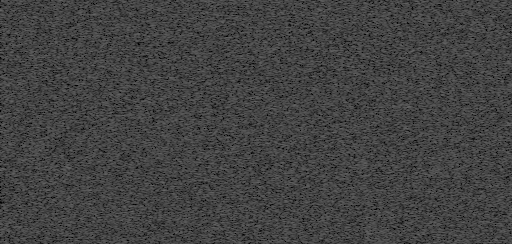wv_am: (224, 0, 248, 244)
wv_cw: (241, 0, 253, 244), (207, 0, 213, 244)
wv_lsb: (344, 22, 349, 244), (344, 10, 349, 21), (344, 2, 349, 9), (218, 7, 221, 14), (217, 219, 222, 222), (218, 123, 221, 127), (218, 44, 221, 48), (218, 36, 221, 40), (218, 149, 221, 152), (218, 25, 221, 28)
wv_usb: (312, 36, 318, 237), (70, 95, 74, 159), (70, 33, 74, 83), (455, 218, 460, 244), (299, 240, 330, 244), (70, 206, 74, 233), (70, 2, 74, 19), (69, 234, 75, 244), (70, 160, 74, 174), (455, 14, 459, 28), (455, 203, 460, 213), (70, 193, 74, 205), (455, 2, 459, 13), (70, 84, 74, 94), (70, 183, 74, 192), (456, 37, 459, 47), (455, 129, 459, 136), (455, 52, 459, 58), (70, 23, 74, 28), (455, 214, 460, 217), (456, 92, 459, 97), (70, 179, 74, 182), (70, 175, 74, 178), (70, 29, 74, 32), (456, 71, 459, 74), (456, 67, 459, 70), (456, 29, 459, 32)
wv_wbfm: (125, 0, 166, 244)
